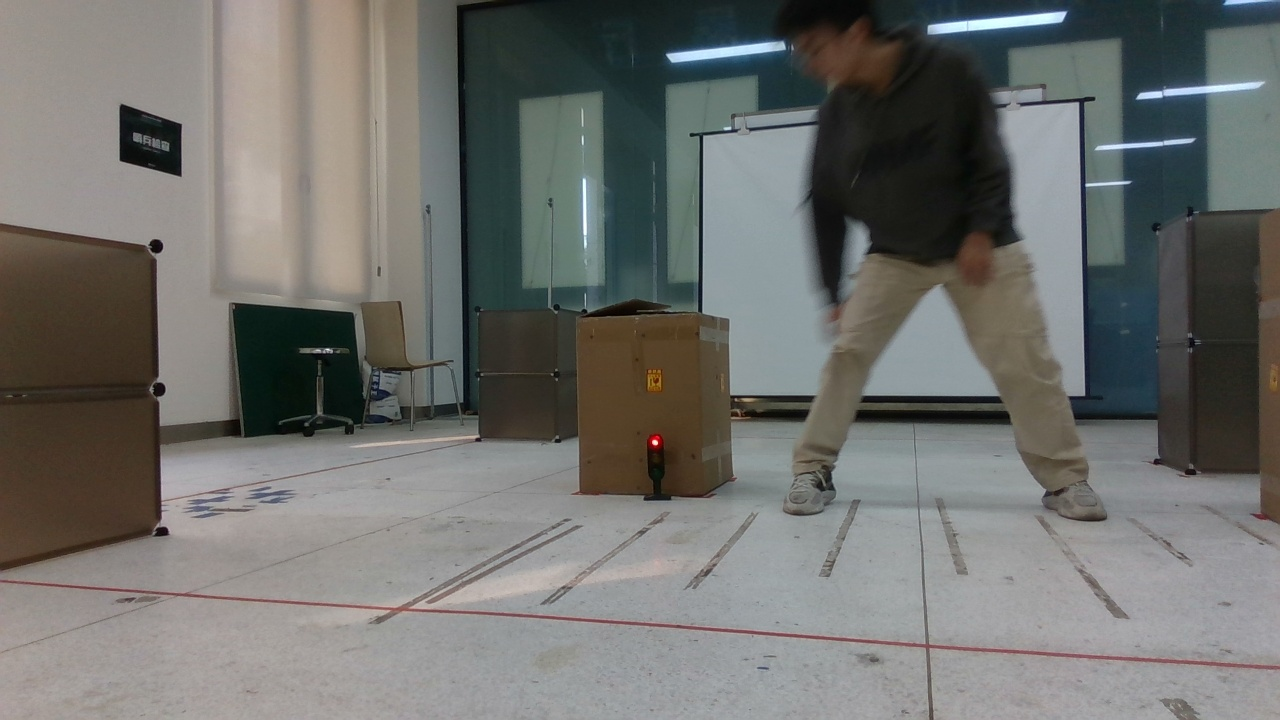red_light: (626, 423, 682, 506)
